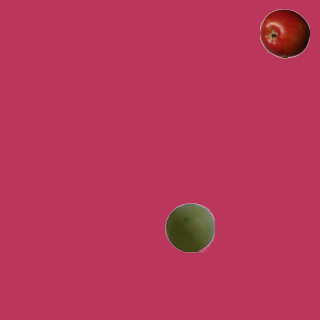Apple Braeburn: (259, 8, 309, 58)
Grape White 4: (164, 202, 214, 252)
